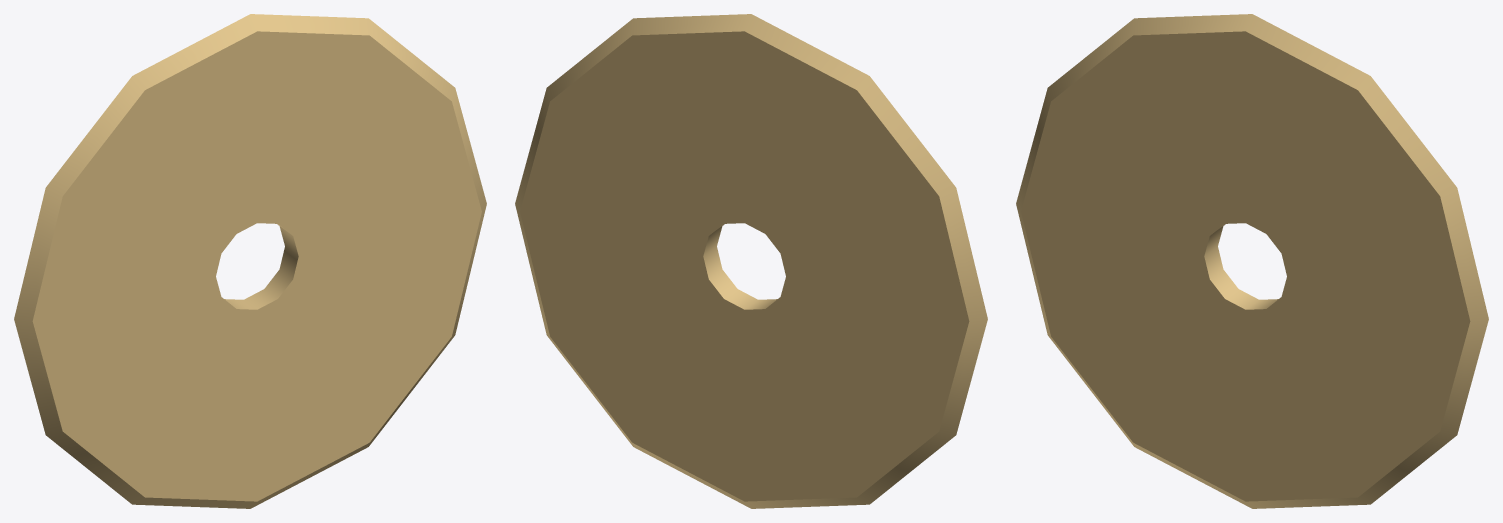
File: depot_disc.glb
3 views of the same model, side by side, from view 1: azimuth 30°, elevation 25°; view 2: azimuth 150°, elevation 25°; view 3: azimuth 330°, elevation 25° (orthographic).
Visible parts, largest first — view 1: disc; view 2: disc; view 3: disc.
Part boxes in pixels (x1,y1,x2,y2): disc: [14, 14, 486, 508]; disc: [515, 14, 987, 508]; disc: [1016, 14, 1488, 508].
Bounding box in the file's own units: 0.04 × 0.04 × 0.002.
